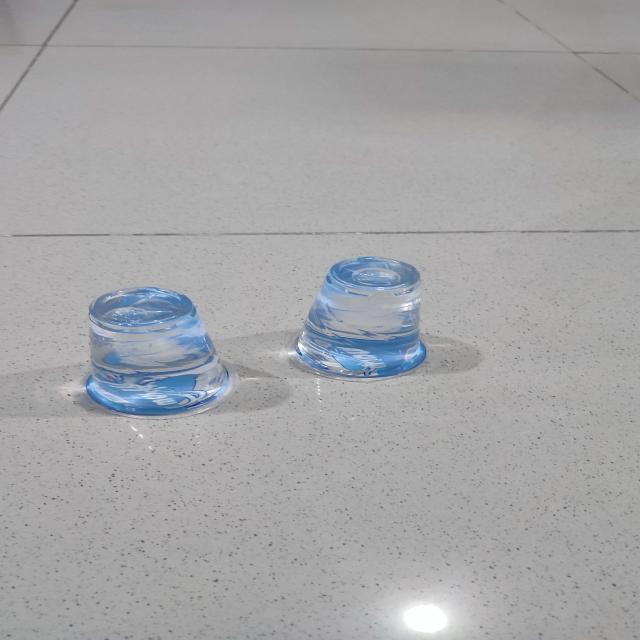air gelas: (79, 283, 243, 422), (283, 252, 440, 386)
